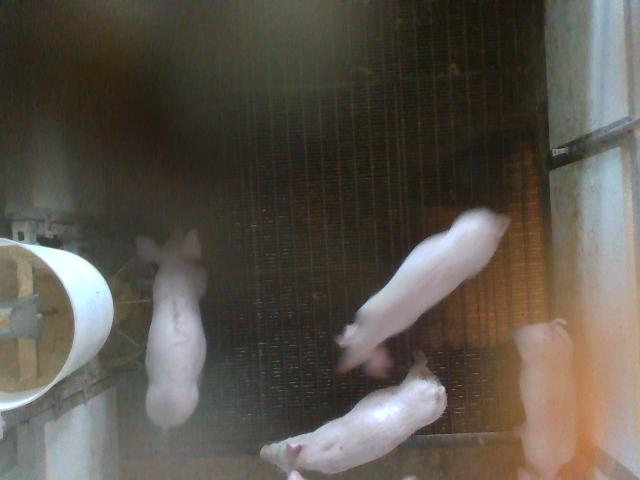pig-3: (136, 230, 206, 429)
